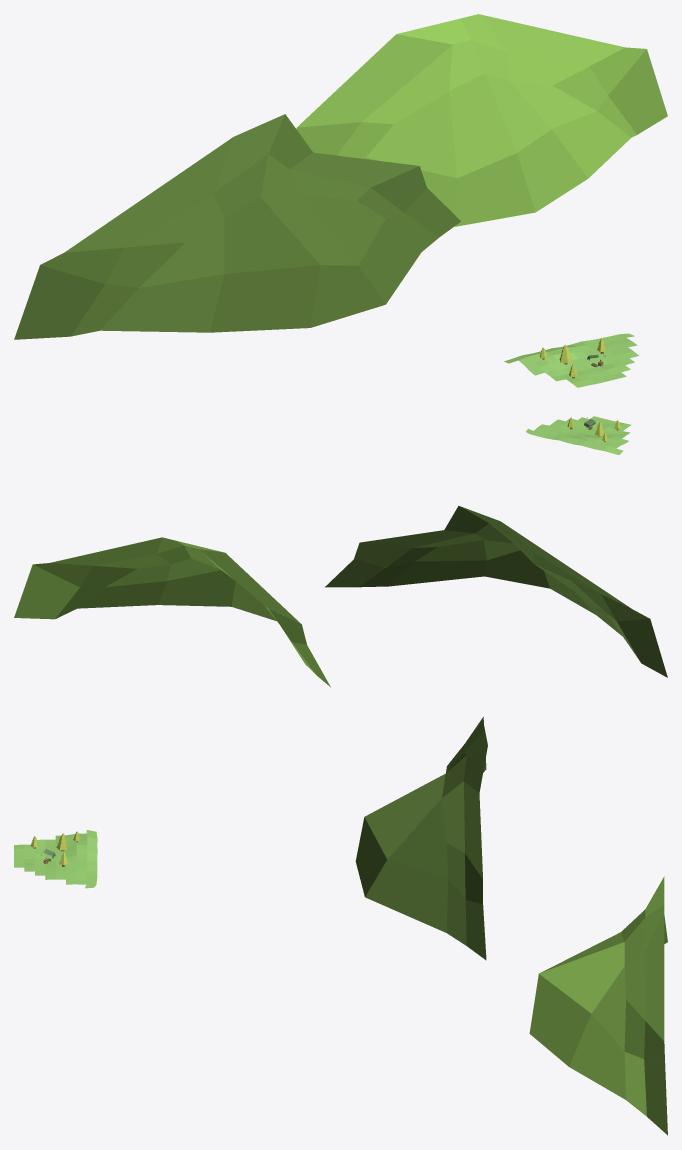
The model's file is escenario.fbx.
3 renders of one model, top to bottom at view 1: azimuth 30°, elevation 25°; view 2: azimuth 150°, elevation 25°; view 3: azimuth 270°, elevation 25°, orthographic. The views are drawn at different scales.
Parts seen in each view (by area): view 1: Escenario; view 2: Escenario; view 3: Escenario.
Boxes of the visible parts, x1,y1,x2,y2 form: Escenario: [14, 14, 667, 387]; Escenario: [14, 416, 667, 687]; Escenario: [14, 717, 667, 1135].
Bounding box in the file's own units: 11833 × 9727 × 2878.
